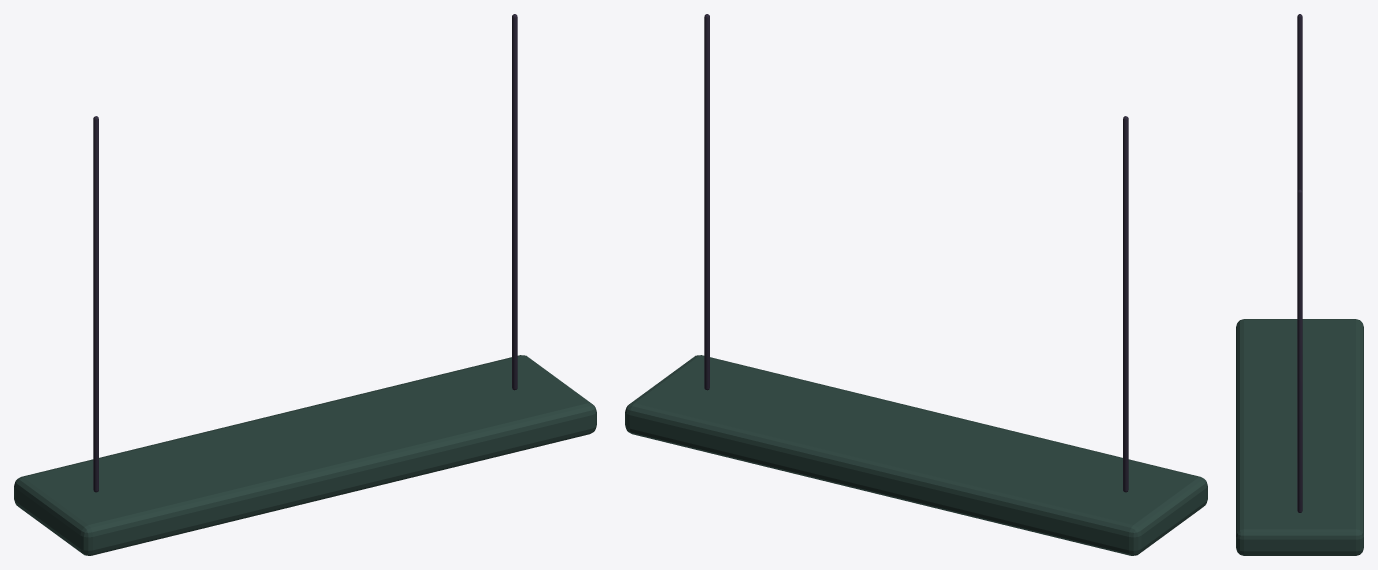
Rendered from bed_lamp.glb.
3 renders of one model, left to right at view 1: azimuth 30°, elevation 25°; view 2: azimuth 150°, elevation 25°; view 3: azimuth 270°, elevation 25°, orthographic. The views are drawn at different scales.
Parts seen in each view (by area): view 1: Hood, Hanger, Hanger.001; view 2: Hood, Hanger, Hanger.001; view 3: Hood, Hanger.001, Hanger.
Part boxes in pixels (x1,y1,x2,y2): Hood: [14, 355, 596, 555]; Hanger: [93, 116, 98, 492]; Hanger.001: [512, 14, 517, 390]; Hood: [625, 355, 1207, 555]; Hanger: [1123, 116, 1128, 492]; Hanger.001: [704, 14, 709, 390]; Hood: [1236, 319, 1363, 555]; Hanger.001: [1297, 189, 1302, 512]; Hanger: [1297, 14, 1302, 191].
Size of the model in its own units: 1.6 by 1.22 by 0.4.
